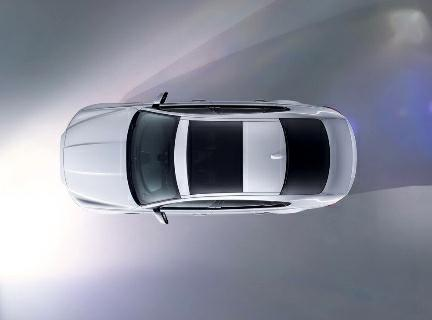捷豹-XJ: (56, 89, 362, 232)
